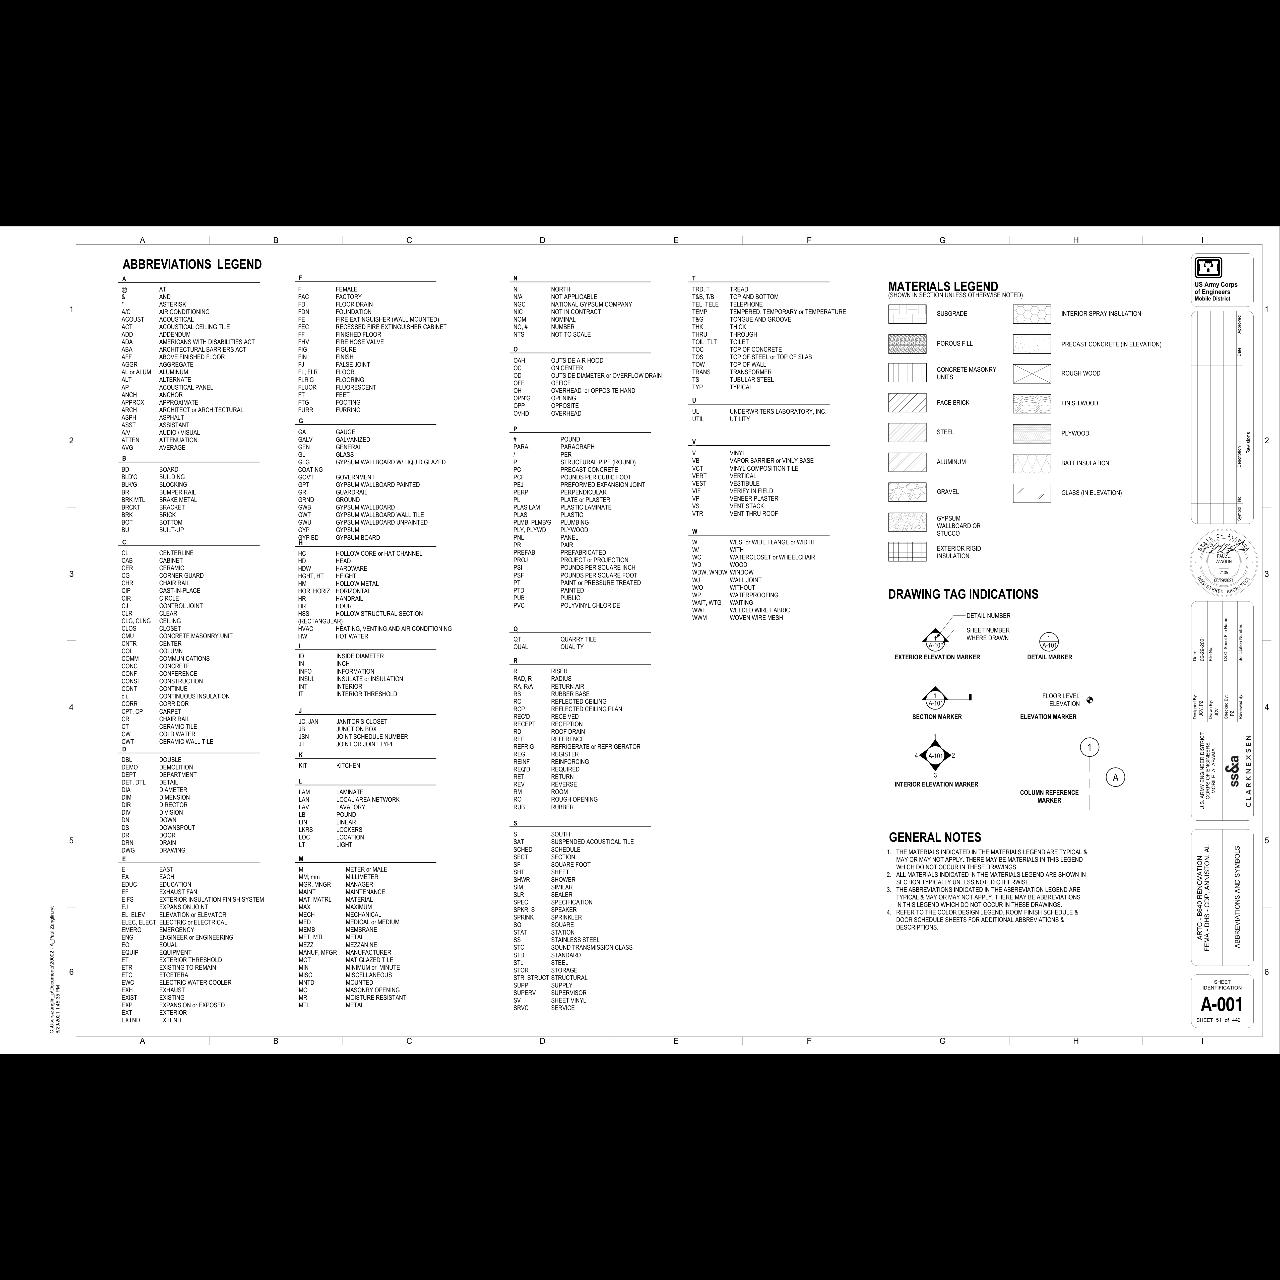detail: (1036, 628, 1063, 654)
elevation: (913, 731, 959, 779), (919, 624, 953, 654), (920, 683, 954, 710)
